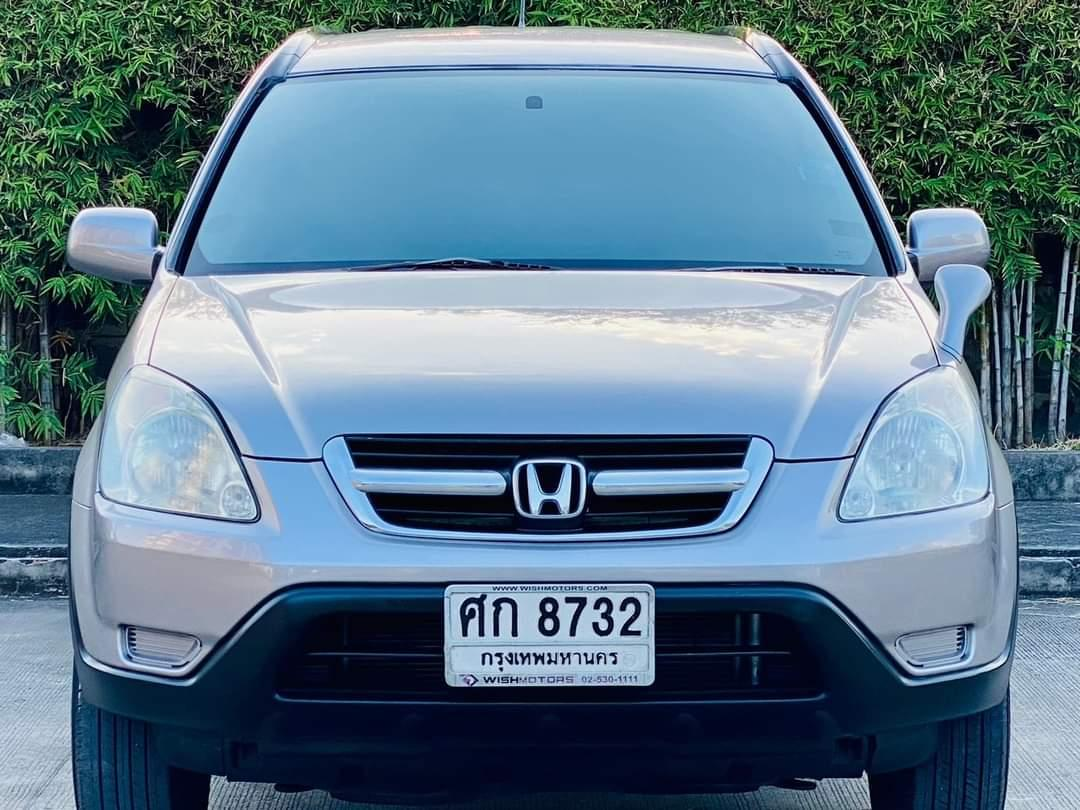license-plate: (447, 583, 655, 686)
